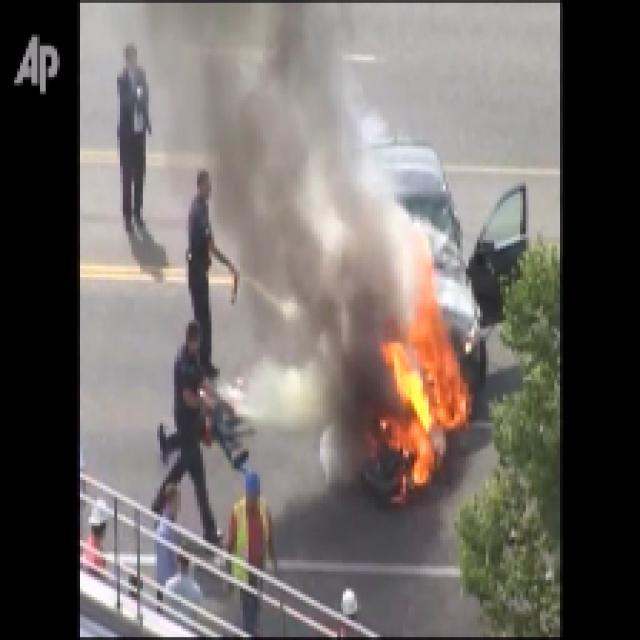Fire: (380, 263, 483, 488)
Smoke: (222, 2, 388, 338)
